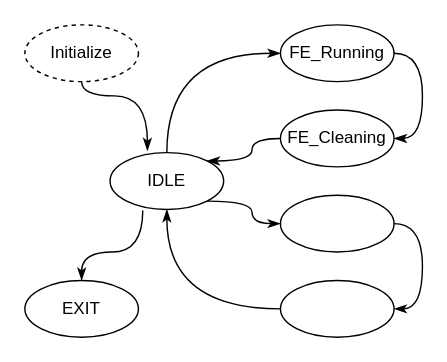
The diagram is 447 pixels wide and 362 high, and some of its shapes have lost their labels. Each missing label, with the centre of its shape:
"BE_Cleaning" goes at point 336,308.
"BE_Running" goes at point 336,223.
